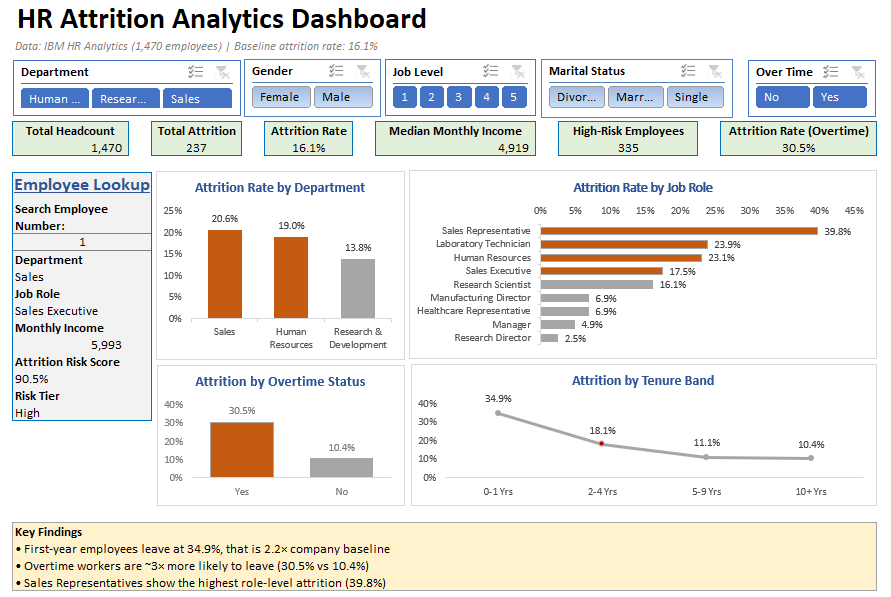

The page's visual inventory and layout, read from the dashboard file:
{"tool":"powerbi","page":{"name":"Page 1","canvas":[1280,720],"ordinal":0},"visuals":[{"type":"cardVisual","fields":{"Data":["HR.Headcount"]},"box":[0,0,180,158.8],"z":0},{"type":"cardVisual","fields":{"Data":["HR.Attrition Count"]},"box":[161.9,0,205.8,159.2],"z":1000},{"type":"cardVisual","fields":{"Data":["HR.Attrition Rate"]},"box":[348.5,0,197.6,159.2],"z":2000},{"type":"cardVisual","fields":{"Data":["HR.Median Income"]},"box":[528.3,0,201.7,159.2],"z":3000},{"type":"cardVisual","fields":{"Data":["HR.High Risk Employees"]},"box":[715,0,227,159],"z":4000},{"type":"clusteredBarChart","fields":{"Category":["HR.Department"],"Y":["HR.Attrition Rate"]},"box":[0,159.2,367.8,304.6],"z":5000},{"type":"clusteredBarChart","fields":{"Category":["HR.JobRole"],"Y":["HR.Attrition Rate"]},"box":[367.8,159.2,435,304.6],"z":6000},{"type":"clusteredColumnChart","fields":{"Category":["HR.OverTime"],"Y":["HR.Attrition Rate"]},"box":[0,473.4,367.8,247],"z":7000},{"type":"lineChart","fields":{"Y":["HR.Attrition Rate"],"Category":["HR.TenureBand"]},"box":[368,473,435,247],"z":8000},{"type":"slicer","fields":{"Values":["HR.Department"]},"box":[812.4,159.2,238.8,123.5],"z":9000},{"type":"slicer","fields":{"Values":["HR.Gender"]},"box":[812.5,282.5,238.8,91.2],"z":10000},{"type":"slicer","fields":{"Values":["HR.JobLevel"]},"box":[917.5,383.8,238.8,117.5],"z":11000},{"type":"slicer","fields":{"Values":["HR.OverTime"]},"box":[1051,282,209,91],"z":12000},{"type":"slicer","fields":{"Values":["HR.MaritalStatus"]},"box":[1051,159,209,123],"z":13000}]}

Visuals, with their boxes on the page's 1280x720 design canvas (x1, y1, x2, y2). These are canvas units, not pixel positions in the 891x597 screenshot, which may show the page scaled, cropped or inside an application window:
cardVisual - HR.Headcount: (0, 0, 180, 159)
cardVisual - HR.Attrition Count: (162, 0, 368, 159)
cardVisual - HR.Attrition Rate: (348, 0, 546, 159)
cardVisual - HR.Median Income: (528, 0, 730, 159)
cardVisual - HR.High Risk Employees: (715, 0, 942, 159)
clusteredBarChart - HR.Department x HR.Attrition Rate: (0, 159, 368, 464)
clusteredBarChart - HR.JobRole x HR.Attrition Rate: (368, 159, 803, 464)
clusteredColumnChart - HR.OverTime x HR.Attrition Rate: (0, 473, 368, 720)
lineChart - HR.Attrition Rate x HR.TenureBand: (368, 473, 803, 720)
slicer - HR.Department: (812, 159, 1051, 283)
slicer - HR.Gender: (812, 282, 1051, 374)
slicer - HR.JobLevel: (918, 384, 1156, 501)
slicer - HR.OverTime: (1051, 282, 1260, 373)
slicer - HR.MaritalStatus: (1051, 159, 1260, 282)
